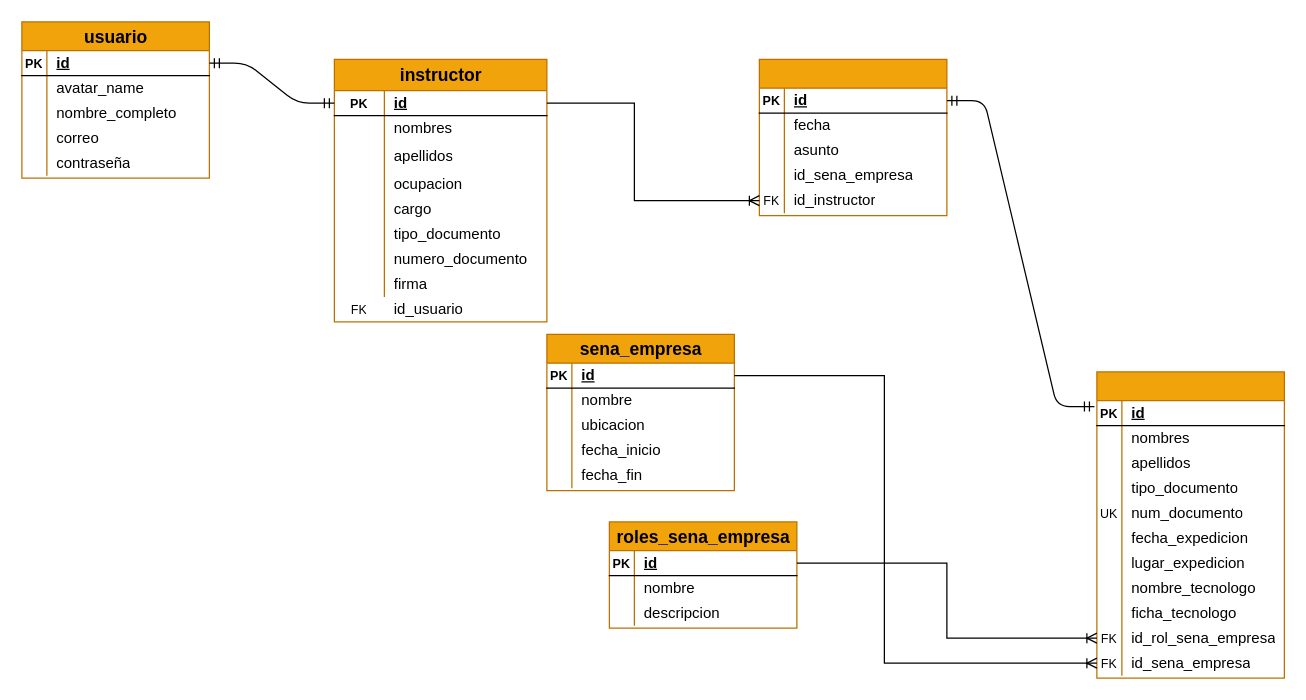
The diagram is 1306 pixels wide and 700 high, and some of its shapes have lost their labels. The shapes that lost their labels are listed below. From the top down, each one's box as (x1, y1, x2, y2) in pixels, then its label:
(758, 58, 947, 216): certificado
(1096, 371, 1284, 678): aprendiz
